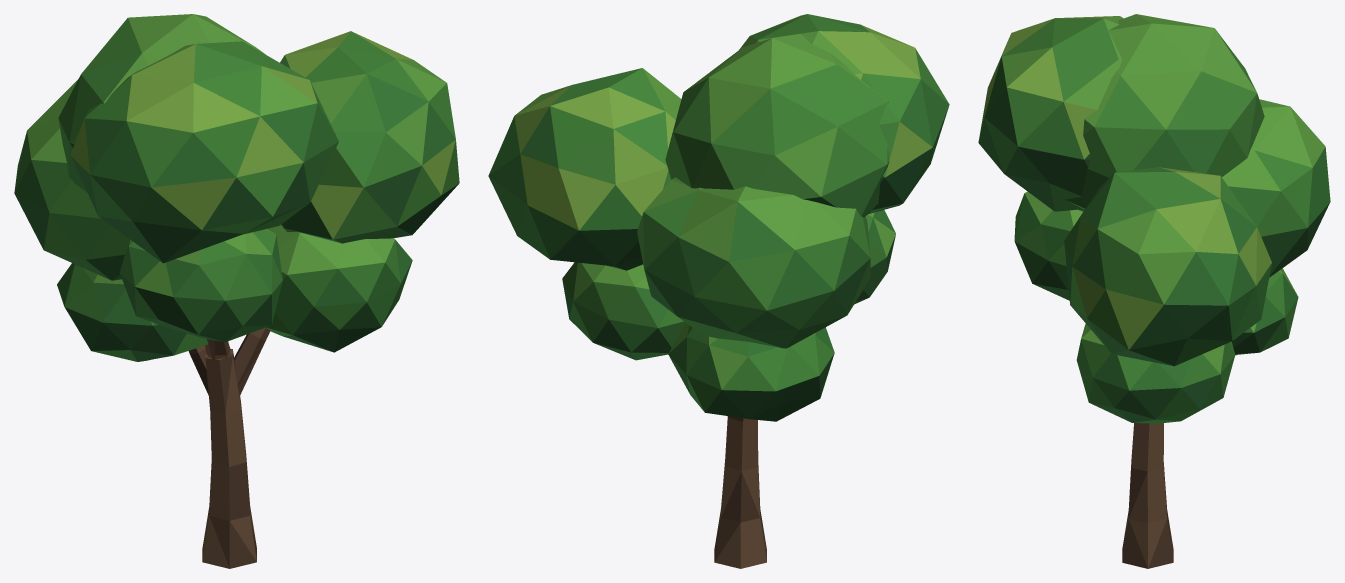
Rendered from city-tree-mid-1.glb.
3 views of the same model, side by side, from view 1: azimuth 30°, elevation 25°; view 2: azimuth 150°, elevation 25°; view 3: azimuth 270°, elevation 25° (orthographic). The views are drawn at different scales.
Visible parts, largest first — view 1: CityTreeMid1; view 2: CityTreeMid1; view 3: CityTreeMid1.
Boxes of the visible parts, <box> form: CityTreeMid1: <box>14,14,459,568</box>; CityTreeMid1: <box>488,14,949,568</box>; CityTreeMid1: <box>978,14,1330,568</box>.
Bounding box in the file's own units: 4.38 × 5.74 × 3.54.
